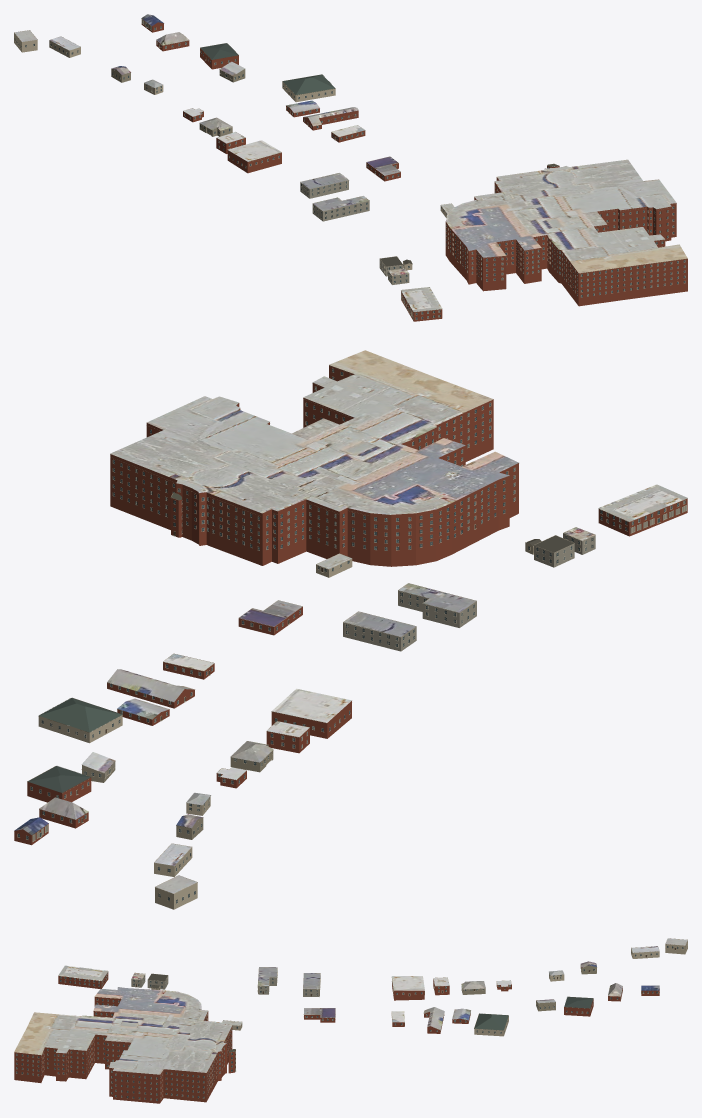
The picture shows the model from 3 angles, top to bottom: view 1: azimuth 30°, elevation 25°; view 2: azimuth 150°, elevation 25°; view 3: azimuth 270°, elevation 25°; orthographic projection. The views are drawn at different scales.
Visible parts, largest first — view 1: -1_3_419637252_0, -1_3_1248151230_131, -1_3_419637252_1, -1_3_590877181_4, -1_3_590877180_3; view 2: -1_3_419637252_0, -1_3_1248151230_131, -1_3_419637252_1, -1_3_590877181_4, -1_3_590877180_3; view 3: -1_3_419637252_0, -1_3_419637252_1, -1_3_590877181_4, -1_3_1248151230_131, -1_3_590877180_3.
Part boxes in pixels (x1,y1,x2,y2): -1_3_419637252_0: (14, 14, 687, 321); -1_3_1248151230_131: (300, 180, 409, 284); -1_3_419637252_1: (200, 43, 558, 266); -1_3_590877181_4: (14, 33, 447, 270); -1_3_590877180_3: (111, 24, 407, 309); -1_3_419637252_0: (14, 350, 687, 903); -1_3_1248151230_131: (343, 533, 595, 651); -1_3_419637252_1: (28, 492, 573, 792); -1_3_590877181_4: (38, 542, 533, 909); -1_3_590877180_3: (39, 518, 659, 839); -1_3_419637252_0: (14, 938, 687, 1103); -1_3_419637252_1: (148, 974, 593, 1052); -1_3_590877181_4: (151, 940, 687, 1036); -1_3_1248151230_131: (131, 972, 320, 996); -1_3_590877180_3: (461, 965, 596, 1011).
Size of the model in its own units: 272 by 27.38 by 562.
15 materials, 1 textured.
